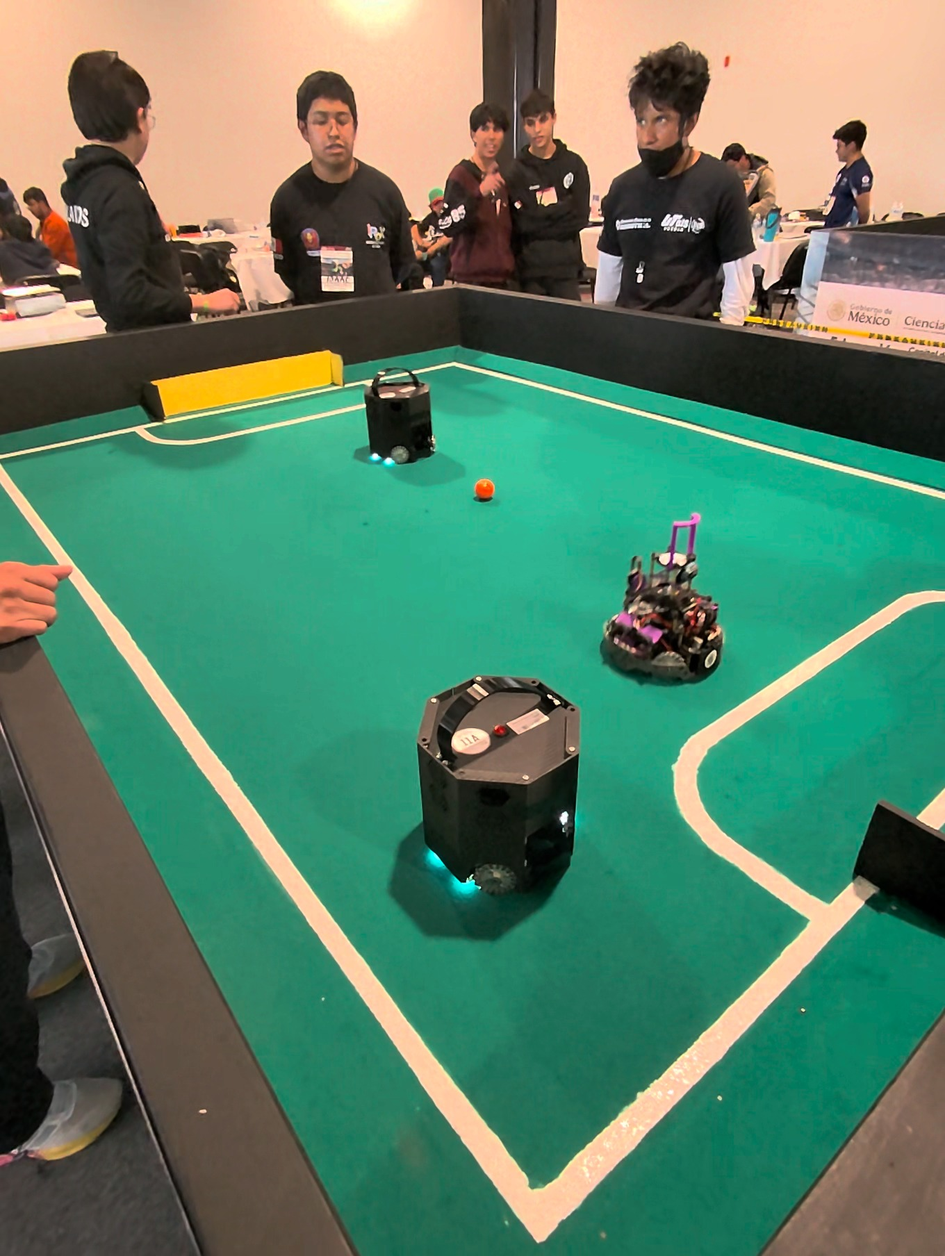Robot: (417, 639, 582, 932), (608, 533, 729, 696), (359, 360, 443, 481)
pelota: (474, 479, 495, 501)
